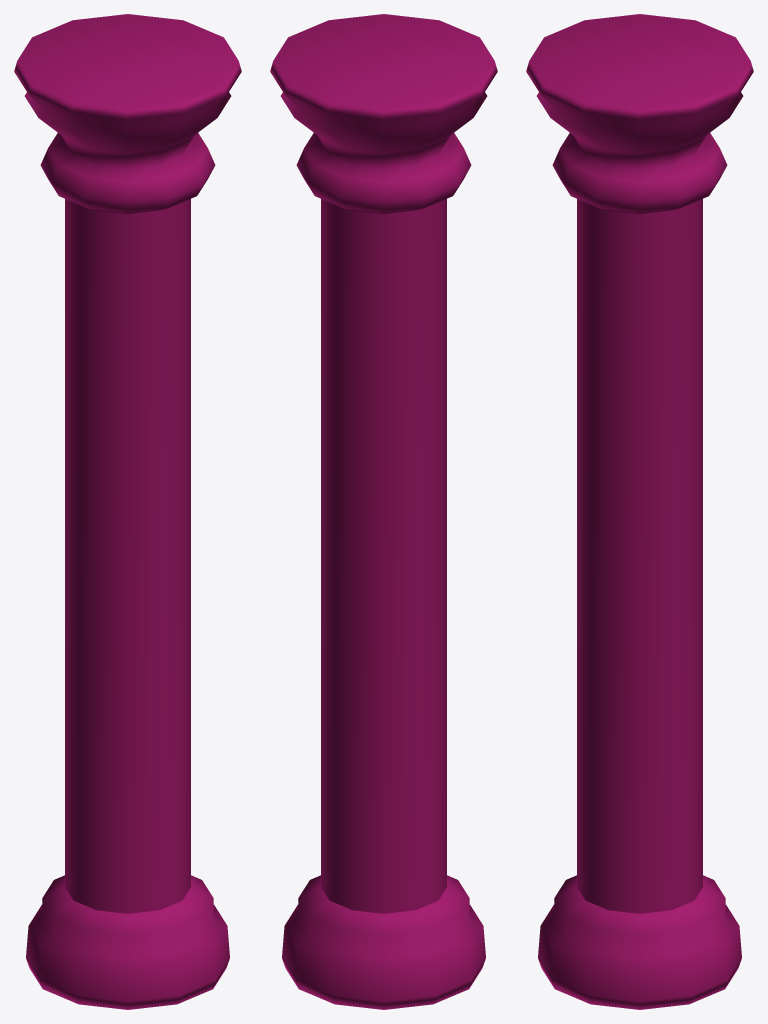
The model's file is Pillar_01_Cut.fbx.
3 renders of one model, left to right at view 1: azimuth 30°, elevation 25°; view 2: azimuth 150°, elevation 25°; view 3: azimuth 270°, elevation 25°, orthographic.
Visible parts, largest first — view 1: Pillar_01_Cut; view 2: Pillar_01_Cut; view 3: Pillar_01_Cut.
Boxes of the visible parts, x1,y1,x2,y2 form: Pillar_01_Cut: (14,14,241,1009); Pillar_01_Cut: (270,14,497,1009); Pillar_01_Cut: (526,14,753,1009).
Bounding box in the file's own units: 1.9 × 8.36 × 1.9.
